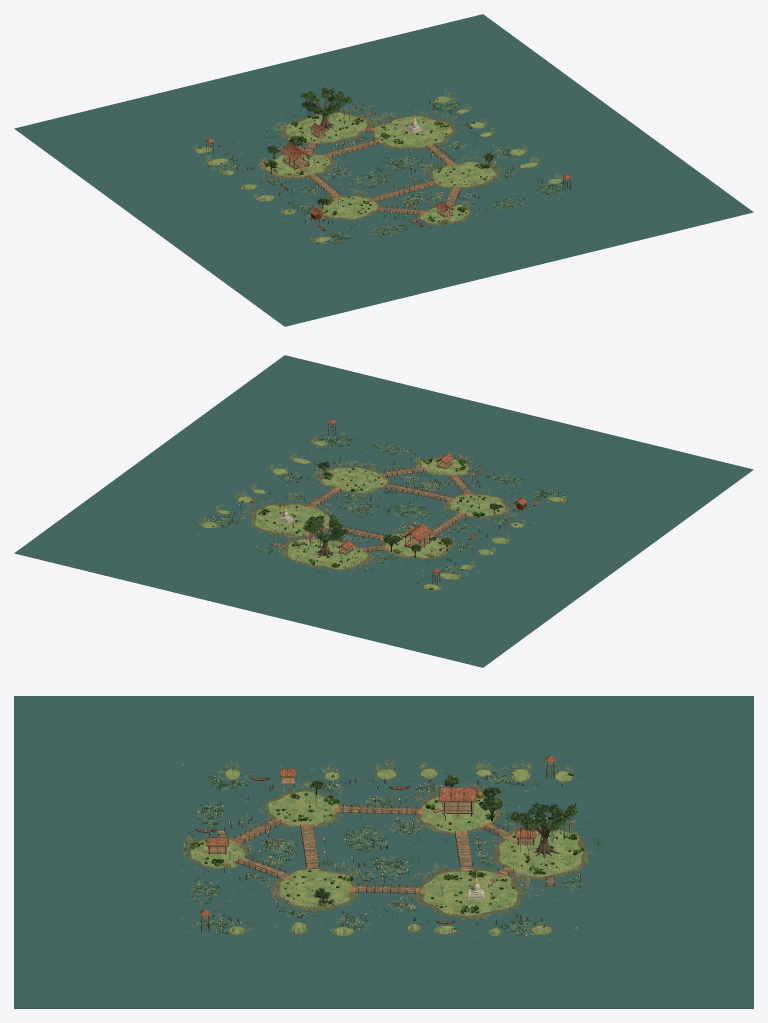
The model's file is lotus-marsh.glb.
3 renders of one model, top to bottom at view 1: azimuth 30°, elevation 25°; view 2: azimuth 150°, elevation 25°; view 3: azimuth 270°, elevation 25°, orthographic. The views are drawn at different scales.
Visible parts, largest first — view 1: Water surface | water, Island meadow | grass2, Cupped floating lotus pads | lotus, Wetland islands - eroded banks | mud, Cupped floating lotus pads | lotus_dark, Organic tree foliage | real bushes, Bridge / side handrails | wood_light, Bridge / separate deck boards | wood_light, Bridge / separate deck boards | wood_weathered, Wetland reed stems | reeds, Bridge / separate deck boards | plank, Organic tree foliage | capital-banyan-crown (+1 smaller); view 2: Water surface | water, Island meadow | grass2, Cupped floating lotus pads | lotus, Wetland islands - eroded banks | mud, Cupped floating lotus pads | lotus_dark, Organic tree foliage | real bushes, Bridge / side handrails | wood_light, Bridge / separate deck boards | wood_light, Wetland reed stems | reeds, Bridge / separate deck boards | wood_weathered, Bridge / separate deck boards | plank, Organic tree foliage | capital-banyan-crown (+1 smaller); view 3: Water surface | water, Island meadow | grass2, Cupped floating lotus pads | lotus, Wetland islands - eroded banks | mud, Cupped floating lotus pads | lotus_dark, Organic tree foliage | real bushes, Wetland reed stems | reeds, Bridge / separate deck boards | wood_light, Bridge / separate deck boards | wood_weathered, Bridge / separate deck boards | plank, Wetland reed leaves | grassblade, Bridge / side handrails | wood_light (+6 smaller).
Boxes of the visible parts, x1,y1,x2,y2 form: Water surface | water: [14, 14, 753, 326]; Island meadow | grass2: [196, 96, 561, 241]; Cupped floating lotus pads | lotus: [196, 90, 576, 256]; Wetland islands - eroded banks | mud: [195, 96, 562, 242]; Cupped floating lotus pads | lotus_dark: [208, 99, 570, 244]; Organic tree foliage | real bushes: [199, 99, 557, 241]; Bridge / side handrails | wood_light: [305, 125, 461, 213]; Bridge / separate deck boards | wood_light: [305, 127, 461, 215]; Bridge / separate deck boards | wood_weathered: [305, 127, 462, 214]; Wetland reed stems | reeds: [194, 92, 563, 242]; Bridge / separate deck boards | plank: [305, 127, 460, 214]; Organic tree foliage | capital-banyan-crown: [300, 87, 352, 115]; Water surface | water: [14, 355, 753, 667]; Island meadow | grass2: [202, 440, 564, 590]; Cupped floating lotus pads | lotus: [190, 429, 588, 589]; Wetland islands - eroded banks | mud: [201, 440, 565, 590]; Cupped floating lotus pads | lotus_dark: [207, 435, 568, 577]; Organic tree foliage | real bushes: [212, 441, 563, 589]; Bridge / side handrails | wood_light: [304, 465, 471, 549]; Bridge / separate deck boards | wood_light: [303, 467, 472, 551]; Wetland reed stems | reeds: [199, 435, 567, 590]; Bridge / separate deck boards | wood_weathered: [305, 467, 471, 551]; Bridge / separate deck boards | plank: [304, 467, 472, 550]; Organic tree foliage | capital-banyan-crown: [301, 514, 349, 541]; Water surface | water: [14, 696, 753, 1008]; Island meadow | grass2: [191, 768, 582, 935]; Cupped floating lotus pads | lotus: [180, 763, 587, 941]; Wetland islands - eroded banks | mud: [187, 768, 588, 936]; Cupped floating lotus pads | lotus_dark: [189, 767, 581, 936]; Organic tree foliage | real bushes: [190, 768, 583, 930]; Wetland reed stems | reeds: [183, 760, 595, 936]; Bridge / separate deck boards | wood_light: [232, 806, 511, 893]; Bridge / separate deck boards | wood_weathered: [235, 807, 514, 893]; Bridge / separate deck boards | plank: [232, 806, 513, 893]; Wetland reed leaves | grassblade: [183, 761, 594, 935]; Bridge / side handrails | wood_light: [235, 803, 512, 891].
Size of the model in its own units: 240 by 17.02 by 240.
Materials: 51 (51 with a texture image).
